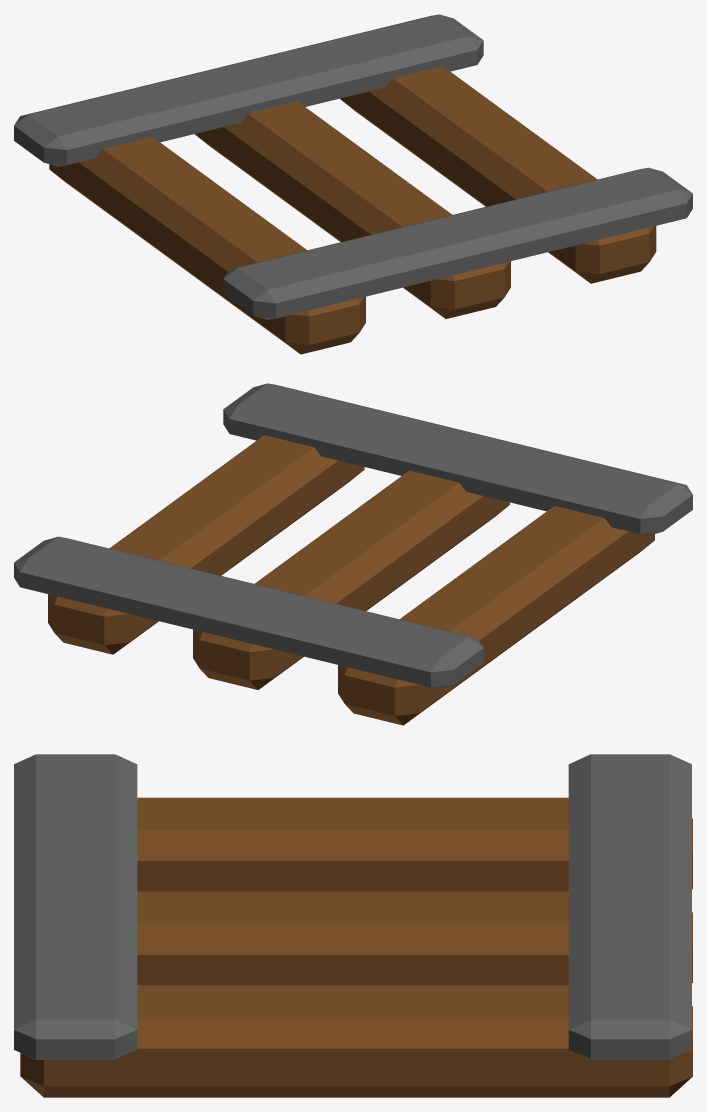
The model's file is rail1.fbx.
The picture shows the model from 3 angles, top to bottom: view 1: azimuth 30°, elevation 25°; view 2: azimuth 150°, elevation 25°; view 3: azimuth 270°, elevation 25°; orthographic projection. The views are drawn at different scales.
Parts seen in each view (by area): view 1: Cube.001; view 2: Cube.001; view 3: Cube.001.
Boxes of the visible parts, x1=… form: Cube.001: x1=14, y1=14, x2=692, y2=354; Cube.001: x1=14, y1=383, x2=692, y2=725; Cube.001: x1=14, y1=754, x2=692, y2=1097.
Size of the model in its own units: 152 by 25.04 by 154.
